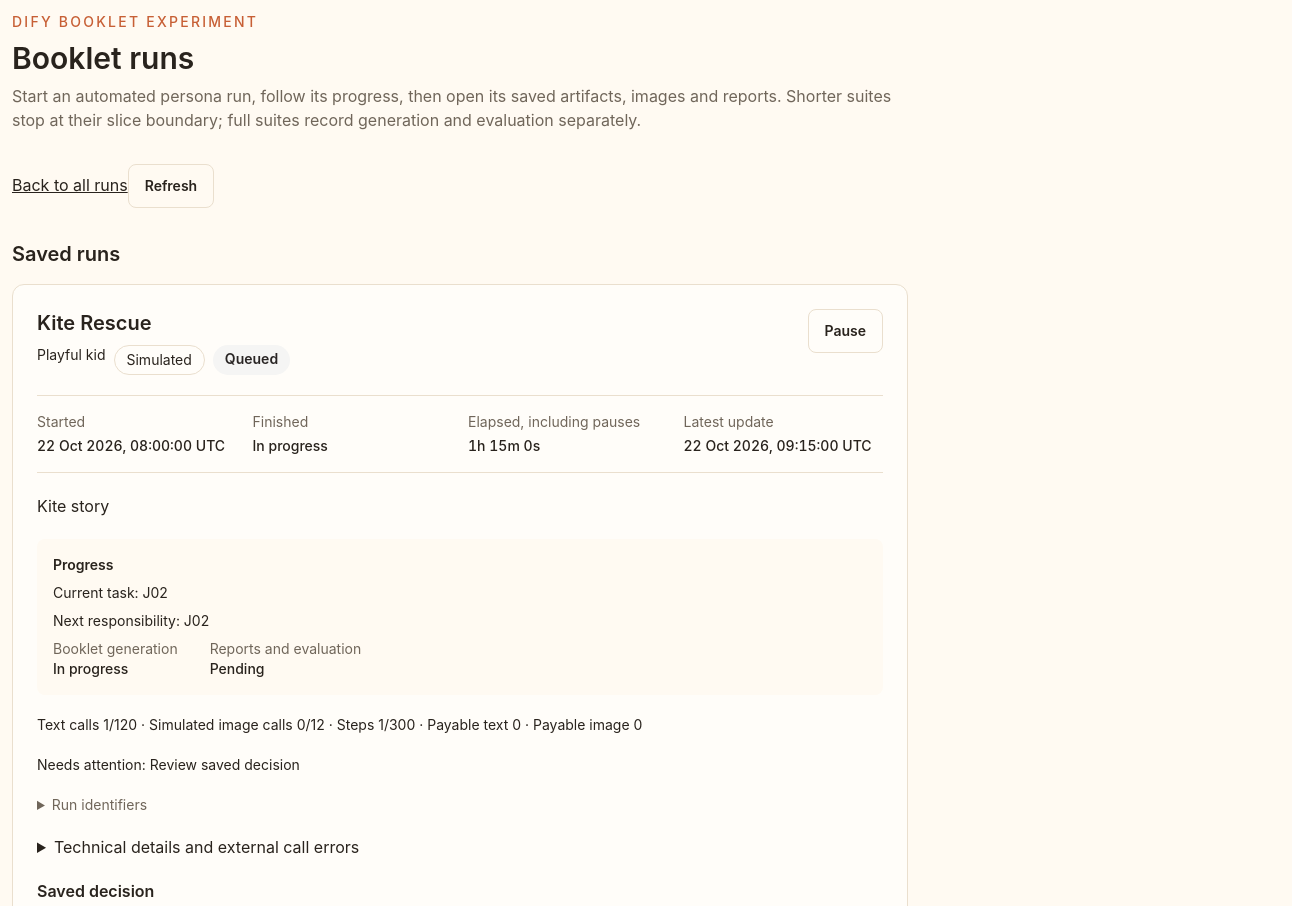
Test: booklet runner inspector › reconciles a lost response with one compact read and no write replay
This screenshot has width=1292, height=906.
Click the button "Pause".
click(845, 331)  # box 808,309 -> 883,353
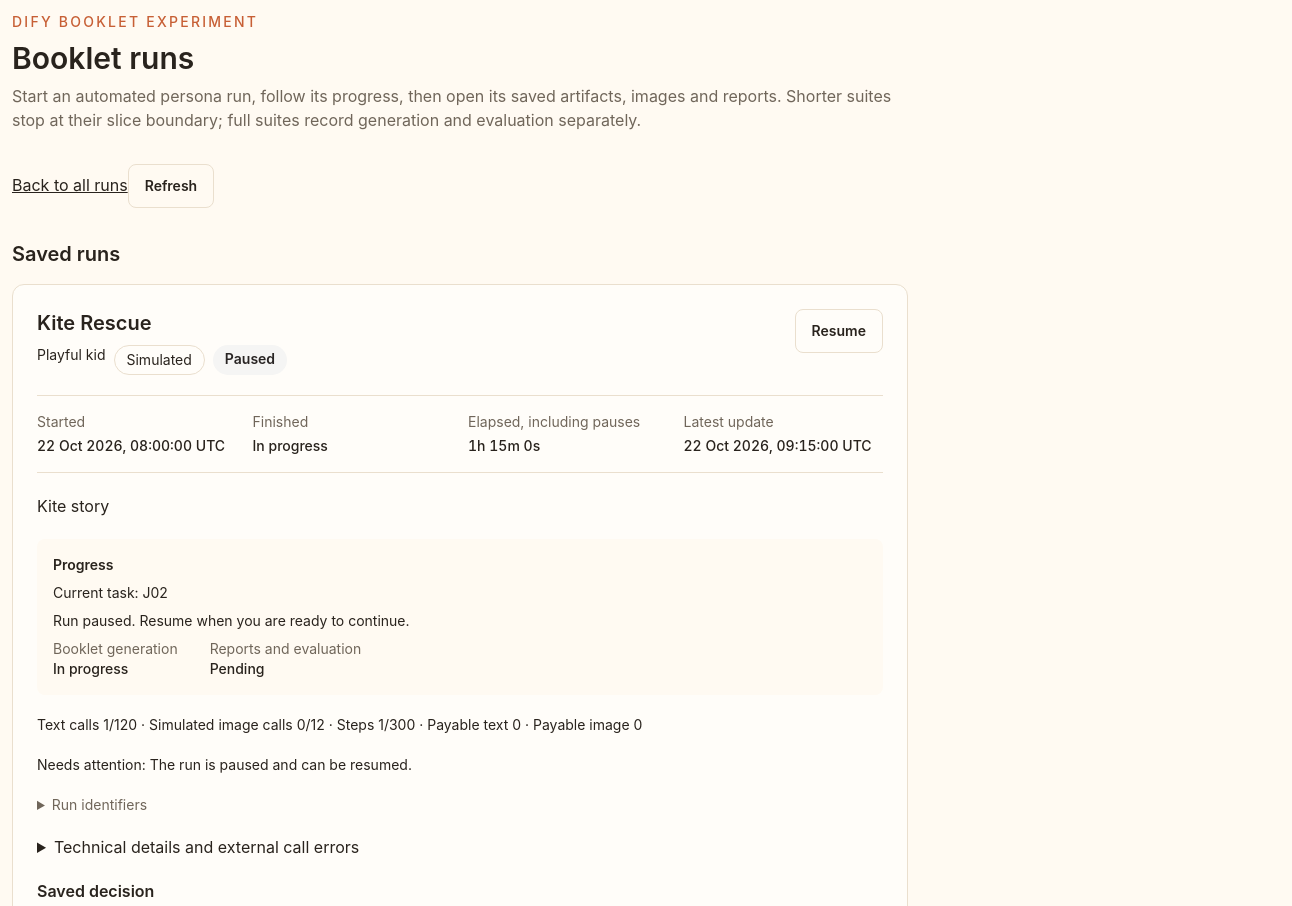
Expected: the button "Resume" is shown, 795,309 -> 883,353
